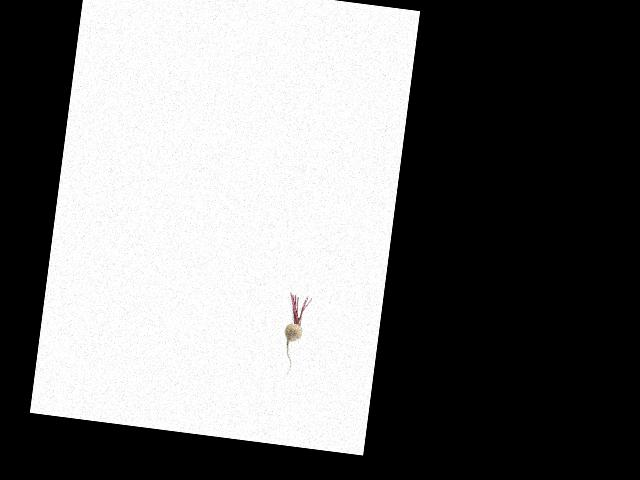beet: (279, 293, 311, 377)
